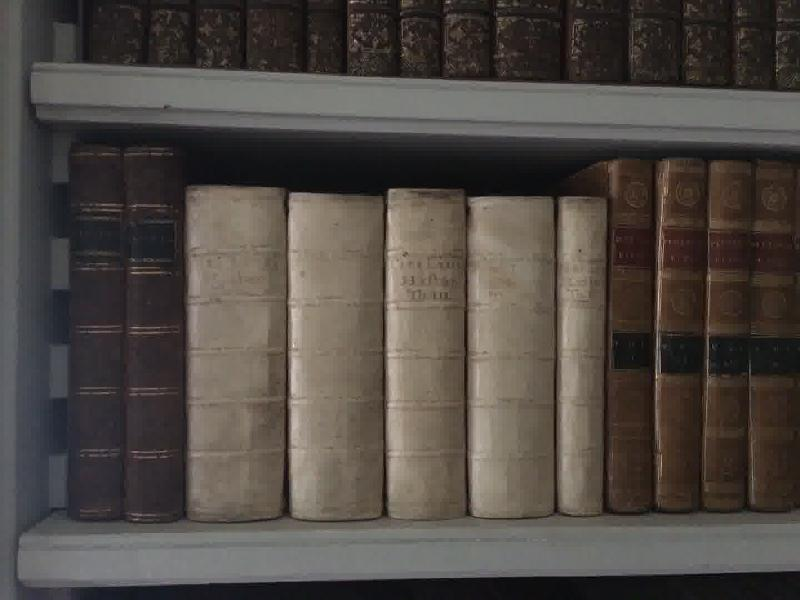Kk4-1_2: (61, 138, 195, 534)
Kk4-3_7: (179, 176, 612, 533)
Kk4-8_13: (600, 155, 800, 518)
